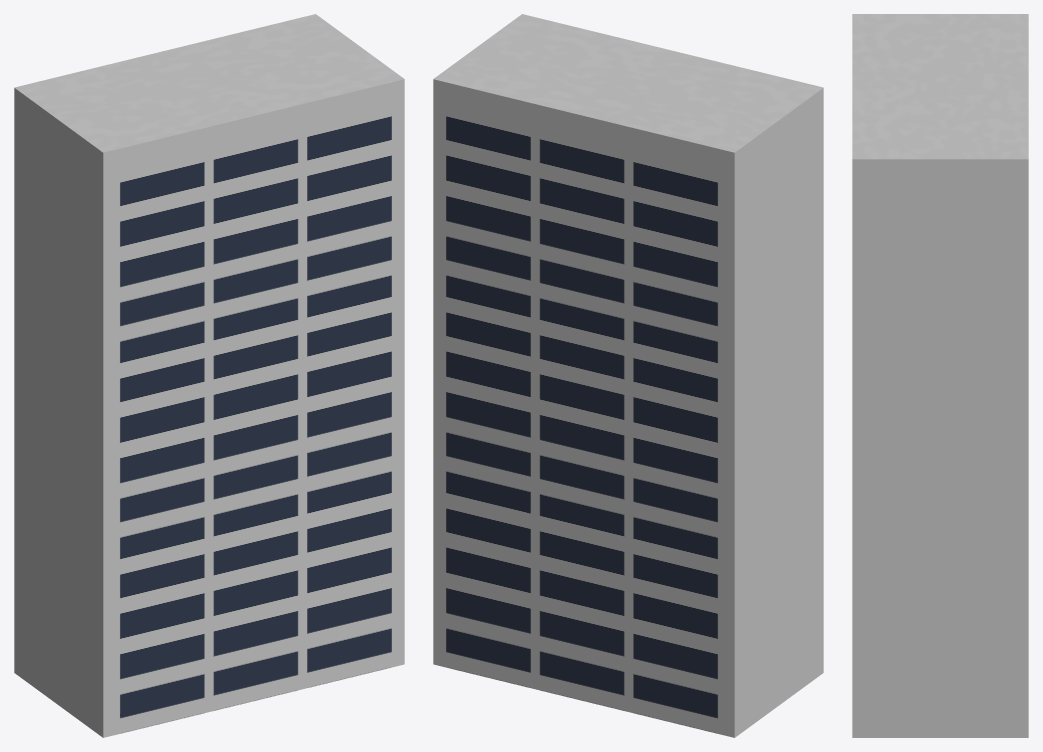
File: Building_S_W6_a_001.fbx
3 views of the same model, side by side, from view 1: azimuth 30°, elevation 25°; view 2: azimuth 150°, elevation 25°; view 3: azimuth 270°, elevation 25° (orthographic).
Parts seen in each view (by area): view 1: Building_S_W6_001; view 2: Building_S_W6_001; view 3: Building_S_W6_001.
Boxes of the visible parts, <box> form: Building_S_W6_001: <box>14,14,404,737</box>; Building_S_W6_001: <box>433,14,823,737</box>; Building_S_W6_001: <box>852,14,1028,737</box>.
Size of the model in its own units: 35.48 by 65.78 by 18.14.
